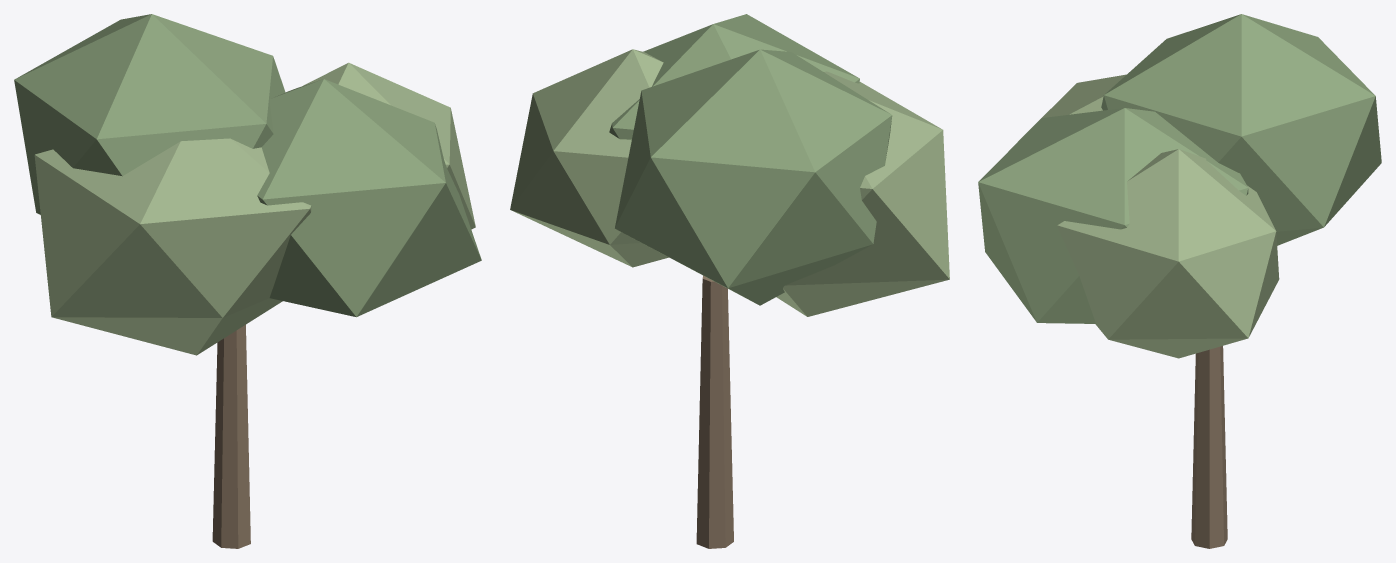
File: quercia_2.glb
The picture shows the model from 3 angles, left to right: view 1: azimuth 30°, elevation 25°; view 2: azimuth 150°, elevation 25°; view 3: azimuth 270°, elevation 25°; orthographic projection. The views are drawn at different scales.
Parts seen in each view (by area): view 1: quercia_2; view 2: quercia_2; view 3: quercia_2.
Part boxes in pixels (x1,y1,x2,y2): quercia_2: (14,14,481,548); quercia_2: (510,14,949,548); quercia_2: (978,14,1381,548).
Bounding box in the file's own units: 10.79 × 13.24 × 9.73.
